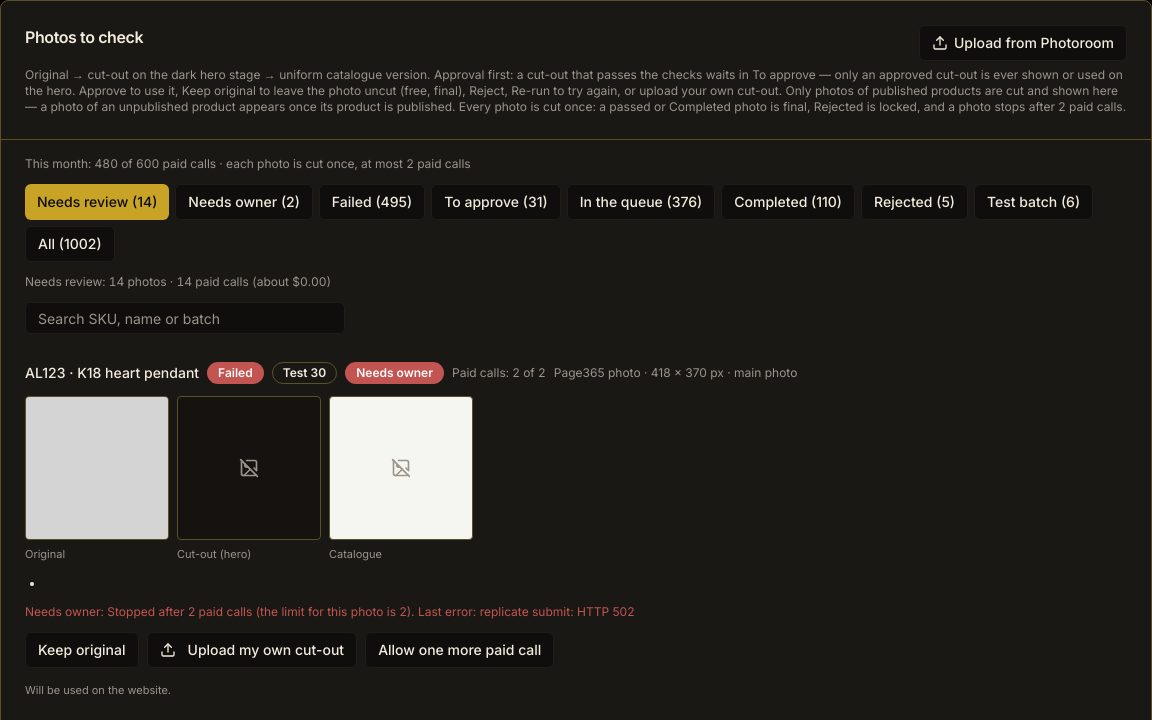
Test: cut once (owner rule 2026-09-28): locked tabs, per-photo paid calls, admin-only reopen with the cost › Needs owner: the reason in plain words; no Re-run; the admin can allow ONE more paid call after a confirm
Later steps or results of the test are not shown.
Check: the text with test id "cutout-hold-reason" shows "Needs owner: Stopped after 2 paid calls", box x1=25 y1=604 x2=634 y2=619
Check: the text with test id "cutout-paid-calls" reads "Paid calls: 2 of 2", box x1=452 y1=365 x2=546 y2=381
Click the button "Allow one more paid call" at coordinates (460, 650), box x1=365 y1=632 x2=554 y2=668
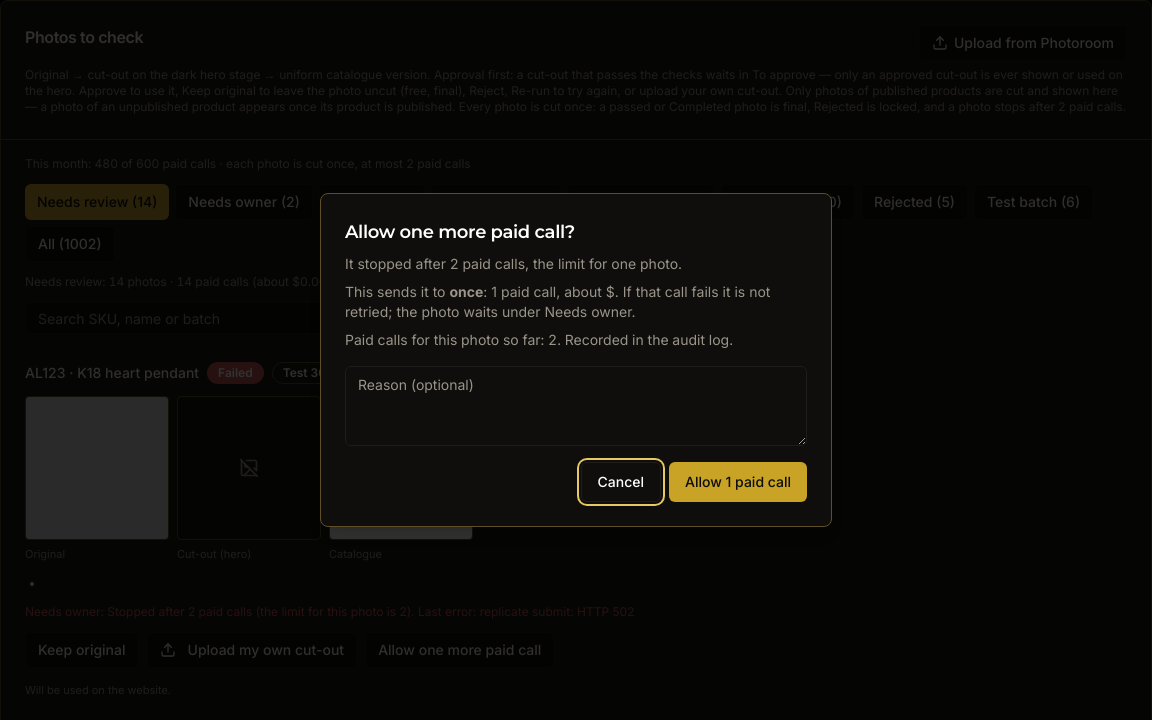
Check: the dialog shows "It stopped after 2 paid calls, the limit for one photo.", box x1=345 y1=255 x2=682 y2=272
Check: the dialog shows "If that call fails it is not retried", box x1=345 y1=283 x2=770 y2=320
